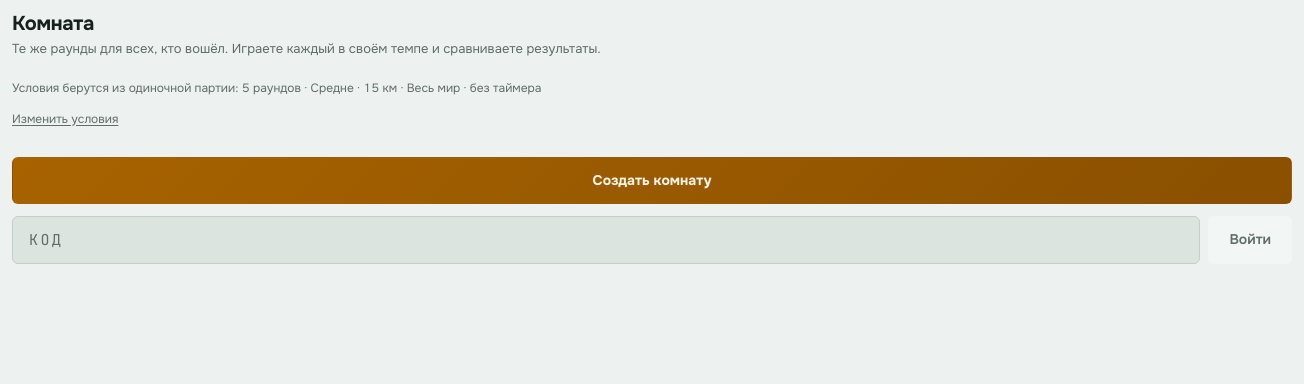
Test: MatchRoom › соперник-бот назван ботом
The width and height of the screenshot is (1304, 384).
Click the button "Создать комнату" at point(652, 180), box [12,156,1292,204]
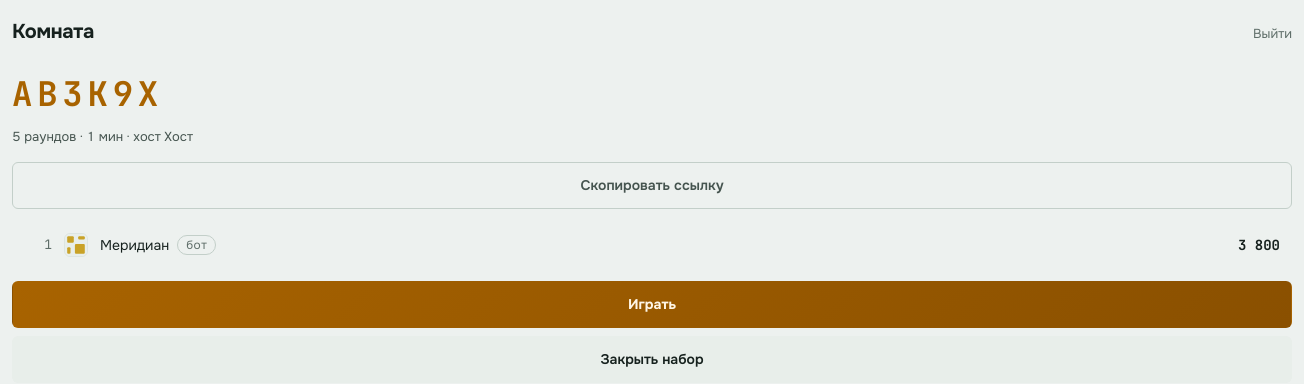
Result: the text "Меридиан" is shown at [100,234,169,256]
Result: the text "бот" is shown at [177,235,216,255]
